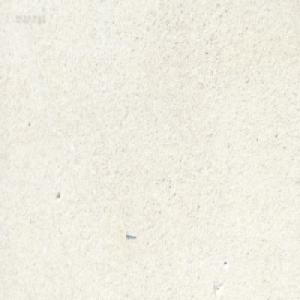Nail: (125, 231, 136, 239)
